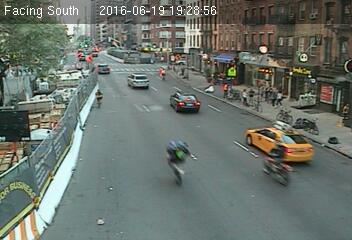neg: (155, 134, 196, 188), (259, 137, 297, 188), (91, 85, 110, 111), (155, 63, 169, 83)
pos: (237, 88, 253, 110), (220, 83, 233, 100), (275, 89, 286, 102), (268, 91, 278, 105)
